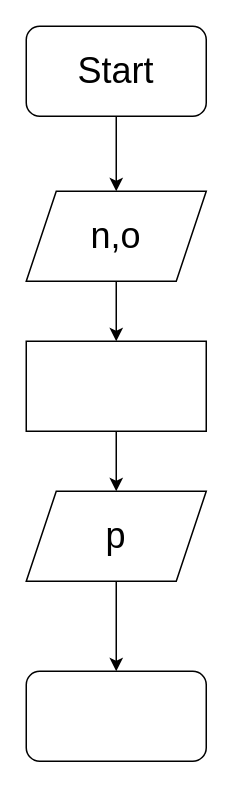
Some shapes in this 233 by 788 pixel diagram are drawn without their labels. Each missing label, with the centre of its shape:
"End" belongs at point 115,715.
"n xo = p" belongs at point 115,385.
